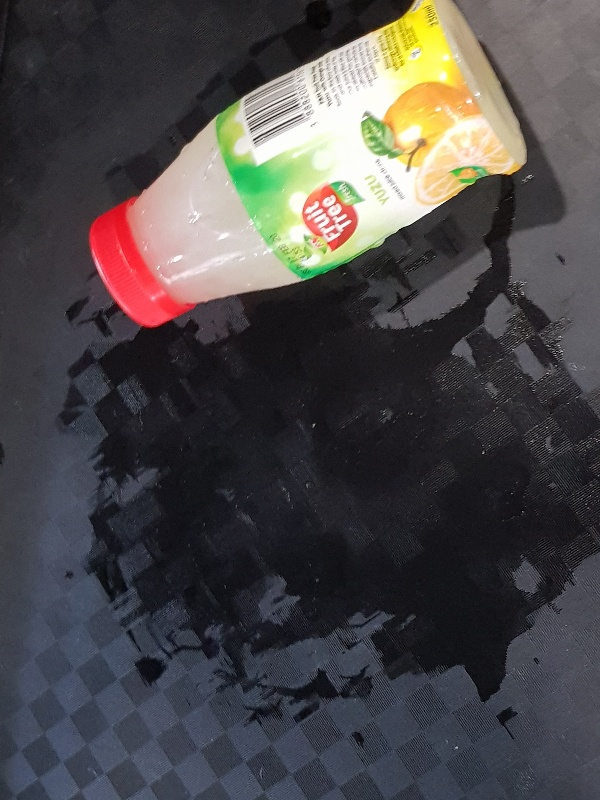Fruit Tree Yuzu Mixed Juice Drink: (86, 1, 528, 329)
